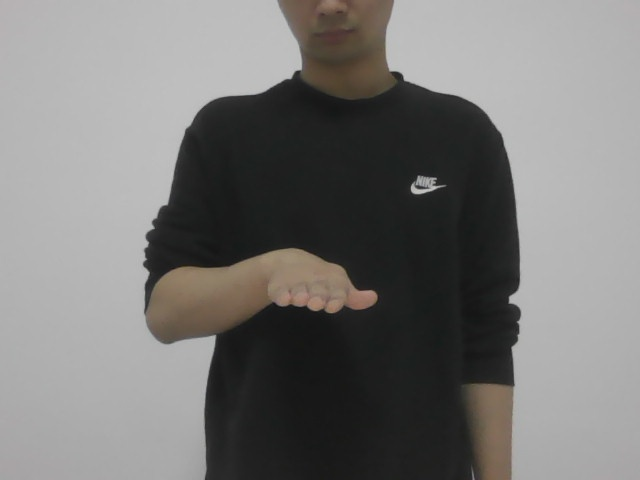slow: (247, 238, 377, 329)
